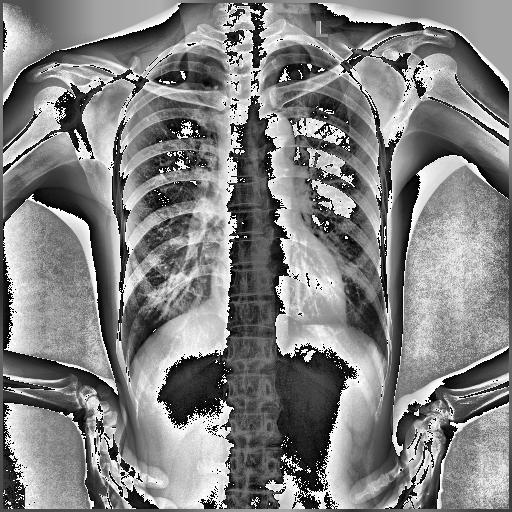0- Aortic enlargement: (254, 114, 296, 178), (256, 110, 296, 157)
3- Cardiomegaly: (209, 262, 347, 325)
5- ILD: (140, 262, 200, 320)
8- Nodule-Mass: (288, 70, 302, 80), (289, 70, 302, 80), (290, 70, 302, 80), (213, 84, 219, 90), (214, 85, 218, 89)
